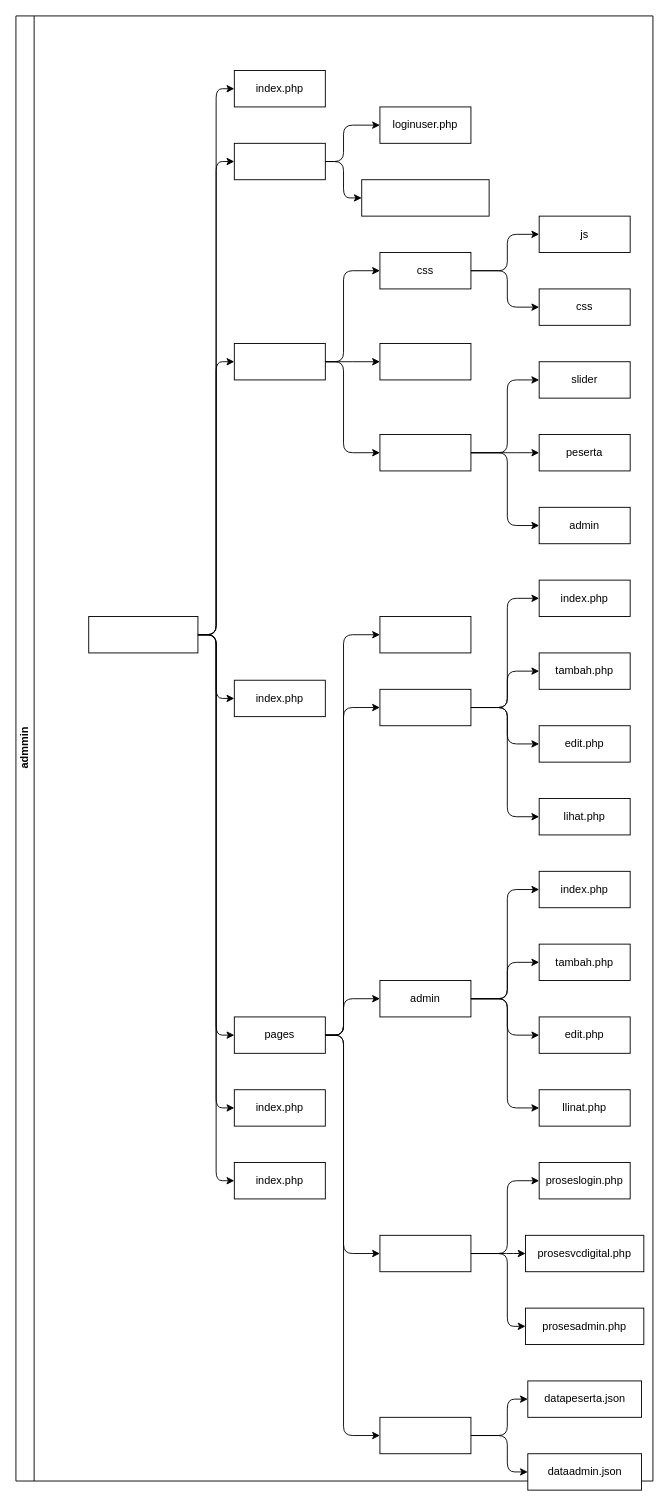
Some shapes in this 669 by 1506 pixel diagram are drawn without their labels. Here are the shapes that lost their labels. From the top down, the centre of each, then its label:
At pixel 279 161: "auth".
At pixel 425 197: "registrasipeserta.php".
At pixel 279 361: "assets".
At pixel 425 361: "pllugins".
At pixel 425 452: "image".
At pixel 143 634: "cvdigitalnurhalizah".
At pixel 425 634: "dashboard.php".
At pixel 425 707: "cvdigital".
At pixel 425 1253: "proses".
At pixel 425 1435: "data".
